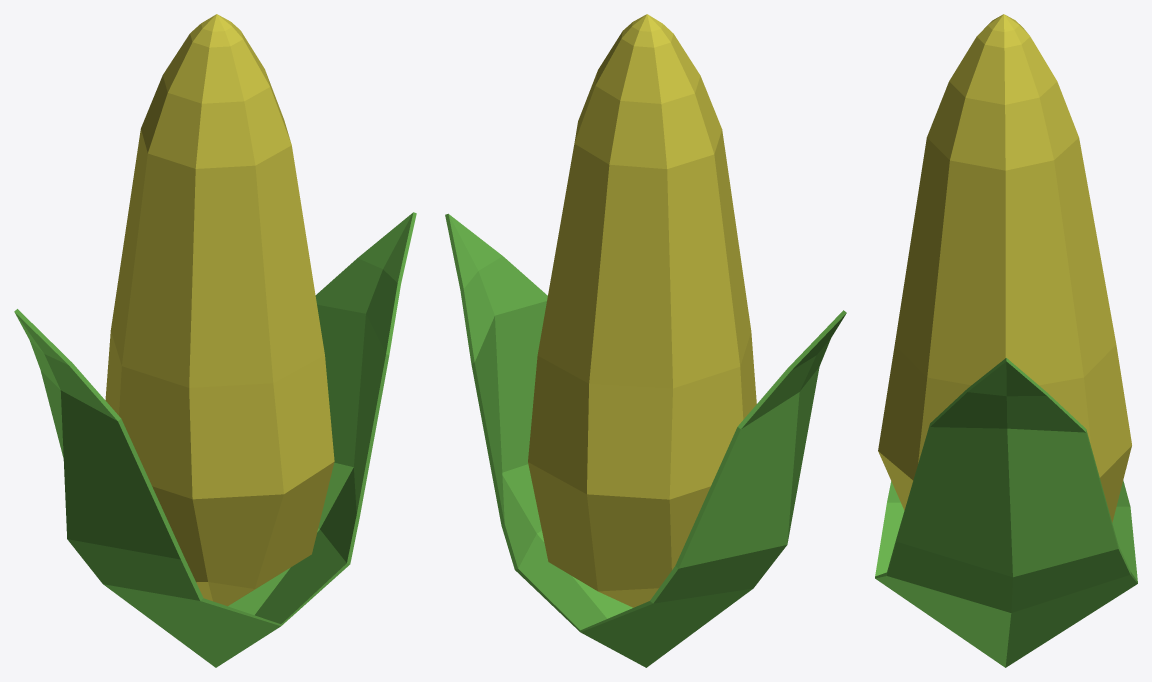
Rendered from EspigaMilho_PowerUp.fbx.
3 views of the same model, side by side, from view 1: azimuth 30°, elevation 25°; view 2: azimuth 150°, elevation 25°; view 3: azimuth 270°, elevation 25° (orthographic).
Visible parts, largest first — view 1: Milho; view 2: Milho; view 3: Milho.
Part boxes in pixels (bbox=[...]): Milho: bbox=[14, 14, 416, 667]; Milho: bbox=[445, 14, 846, 667]; Milho: bbox=[875, 14, 1137, 667].
Size of the model in its own units: 56.23 by 87.35 by 31.82.
